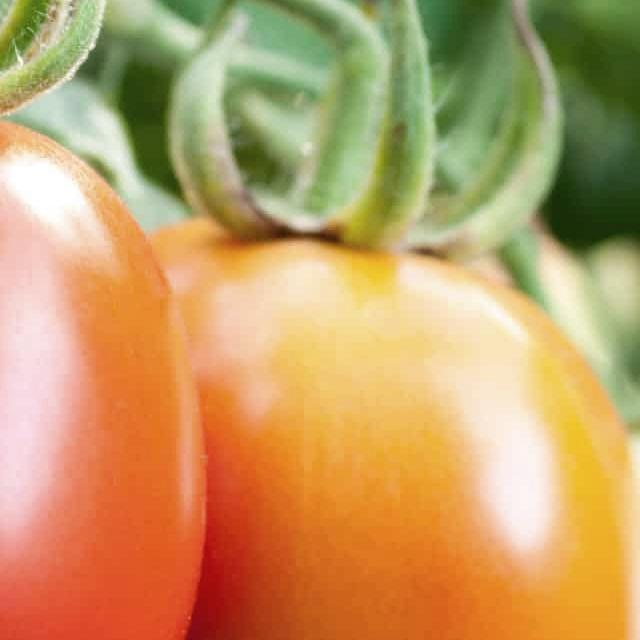tomato: (151, 221, 640, 640), (0, 121, 207, 640)
